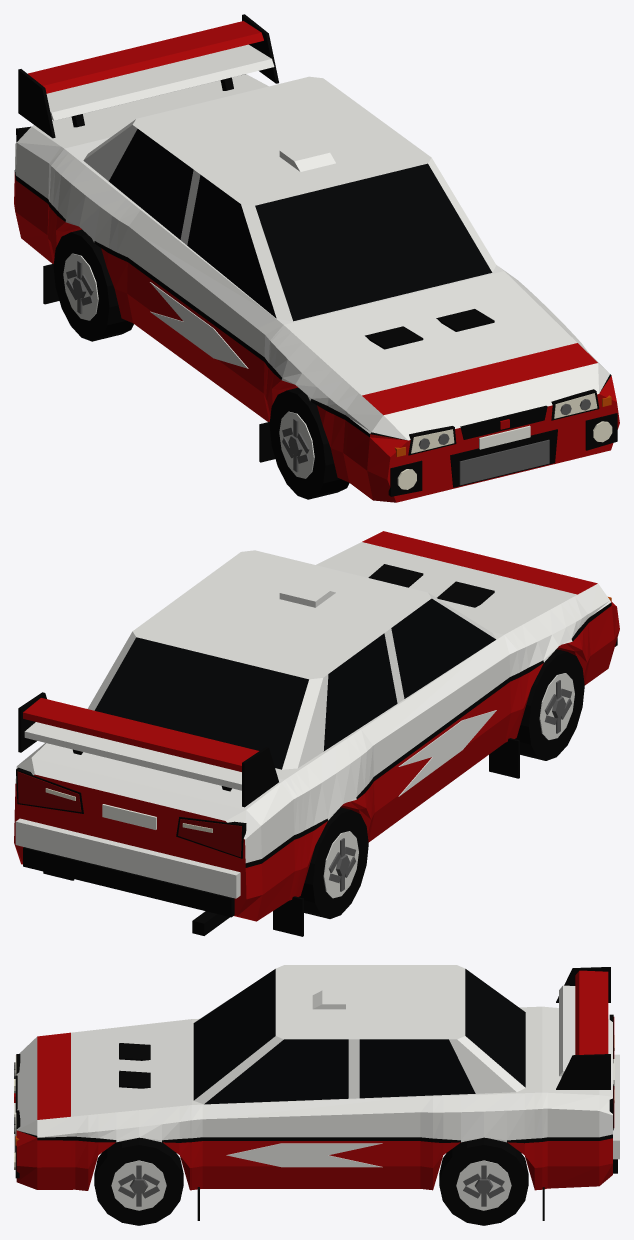
The model's file is lancer-evo6.glb.
The picture shows the model from 3 angles, top to bottom: view 1: azimuth 30°, elevation 25°; view 2: azimuth 150°, elevation 25°; view 3: azimuth 270°, elevation 25°; orthographic projection. The views are drawn at different scales.
Parts seen in each view (by area): view 1: body, cabin, cabin-body, body-red, wing-low, wing-high, wheel-back-right, wheel-front-right, intercooler, chevron-right, body-black, wing-plate-right (+10 smaller); view 2: body, cabin, cabin-body, body-red, bumper-rear, wing-high, valance-rear, wing-low, wheel-back-right, wheel-front-right, chevron-right, body-black (+13 smaller); view 3: body, cabin, body-red, cabin-body, wheel-back-left, wheel-front-left, wing-high, chevron-left, body-black, wing-plate-left, rim-front-left, rim-back-left (+6 smaller).
Part boxes in pixels (x1,y1,x2,y2): body: [15, 74, 609, 440]; cabin: [109, 129, 492, 321]; cabin-body: [83, 76, 496, 321]; body-red: [14, 172, 619, 502]; wing-low: [46, 44, 274, 120]; wing-high: [28, 21, 263, 93]; wheel-back-right: [53, 229, 133, 341]; wheel-front-right: [269, 387, 349, 499]; intercooler: [459, 439, 549, 485]; chevron-right: [150, 282, 248, 368]; body-black: [14, 169, 611, 440]; wing-plate-right: [18, 69, 55, 138]; body: [15, 542, 611, 862]; cabin: [94, 598, 495, 769]; cabin-body: [87, 550, 495, 769]; body-red: [14, 531, 619, 921]; bumper-rear: [15, 818, 240, 898]; wing-high: [23, 698, 258, 771]; valance-rear: [23, 847, 234, 917]; wing-low: [24, 722, 241, 790]; wheel-back-right: [299, 807, 368, 918]; wheel-front-right: [515, 649, 584, 760]; chevron-right: [398, 710, 496, 796]; body-black: [245, 602, 611, 867]; body: [16, 1006, 612, 1142]; cabin: [193, 969, 525, 1104]; body-red: [16, 1032, 612, 1190]; cabin-body: [194, 965, 525, 1104]; wheel-back-left: [439, 1137, 528, 1225]; wheel-front-left: [94, 1137, 183, 1225]; wing-high: [575, 970, 608, 1054]; chevron-left: [226, 1143, 382, 1167]; body-black: [18, 1130, 612, 1143]; wing-plate-left: [556, 1054, 610, 1089]; rim-front-left: [111, 1160, 166, 1210]; rim-back-left: [456, 1160, 511, 1210].
Bounding box in the file's own units: 1.79 × 1.43 × 4.41.
